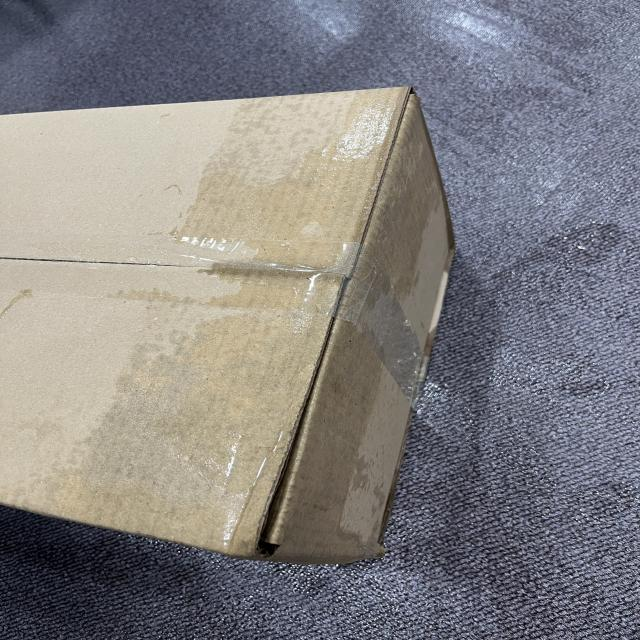wet: (98, 329, 437, 559), (177, 81, 450, 299)
